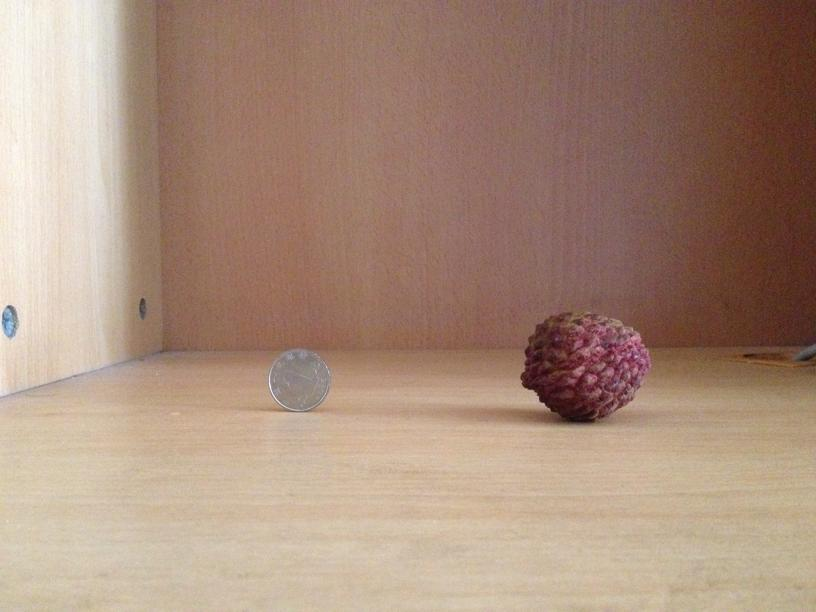coin: (267, 349, 331, 411)
litchi: (517, 308, 647, 420)
